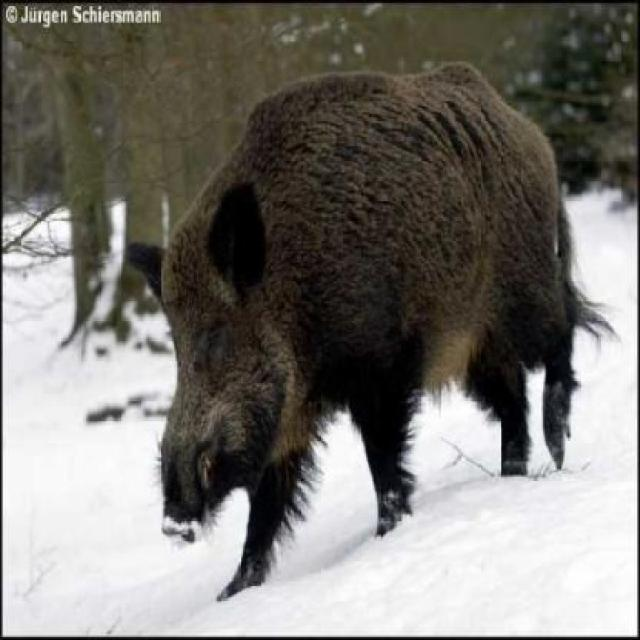pig: (128, 37, 637, 576)
